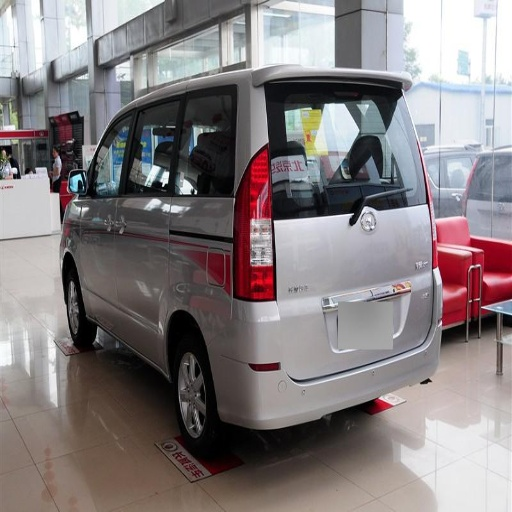back_bumper: (214, 300, 439, 429)
back_glass: (276, 86, 418, 205)
back_left_door: (178, 92, 226, 154)
tailgate: (364, 305, 428, 354)
trunk: (234, 215, 430, 377), (130, 199, 229, 353)
